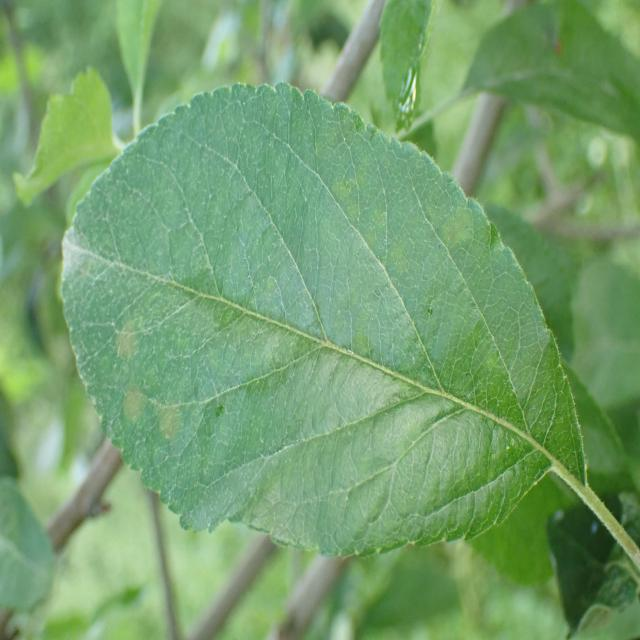scab: (71, 185, 546, 550)
